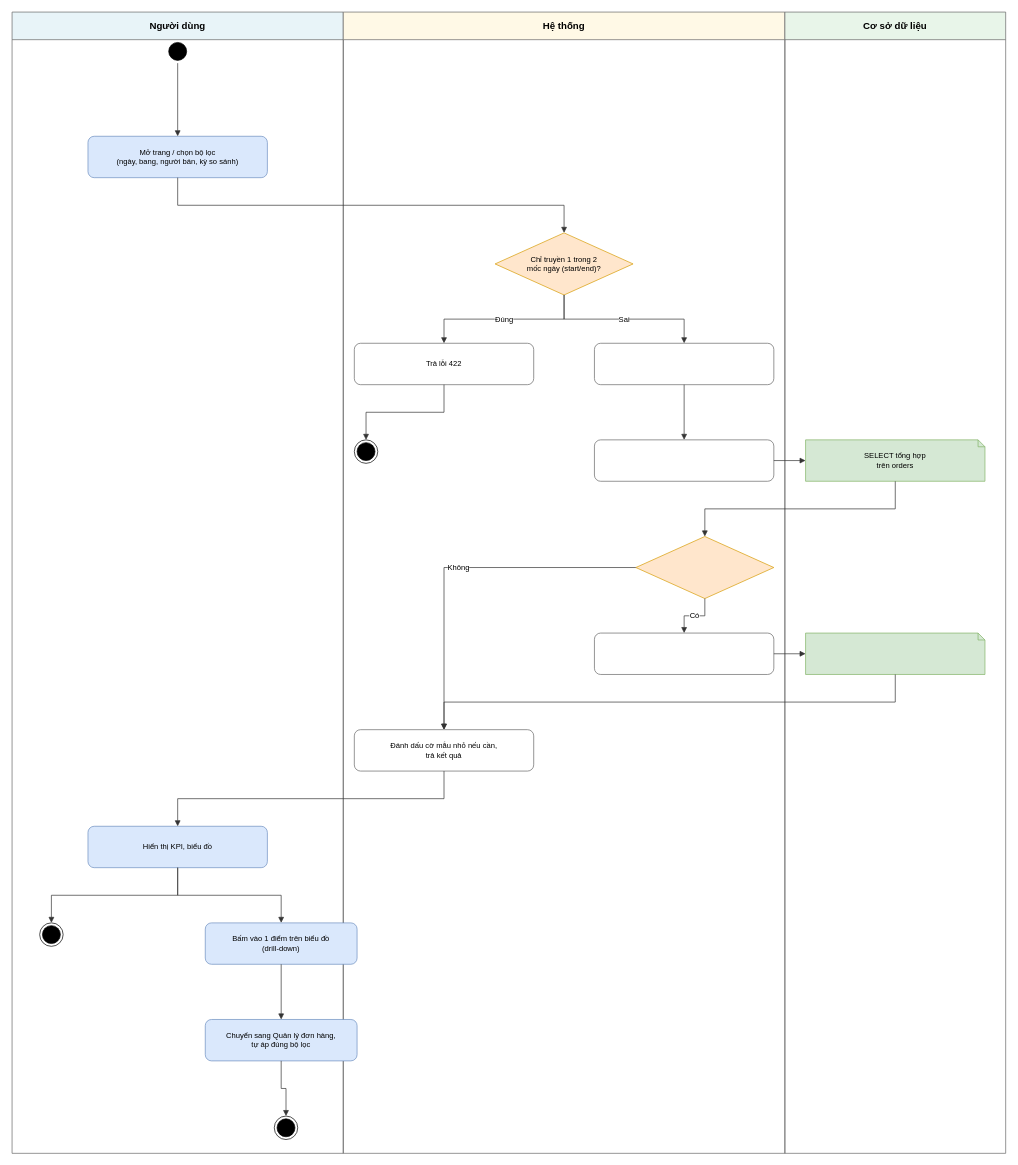
The diagram is 1018 pixels wide and 1165 high, and some of its shapes have lost their labels. The centre of each missing label's shape, as x and y in pixels:
"Có chọn so sánh kỳ?" belongs at pixel 704 567.
"SELECT" belongs at pixel 895 653.
"Tính KPI, xu hướng theo thời gian, phân bố theo bang" belongs at pixel 684 460.
"Tính thêm KPI + xu hướng của kỳ đối chiếu" belongs at pixel 684 653.
"Xác định kỳ báo cáo (mặc định nếu không chọn)" belongs at pixel 684 364.
